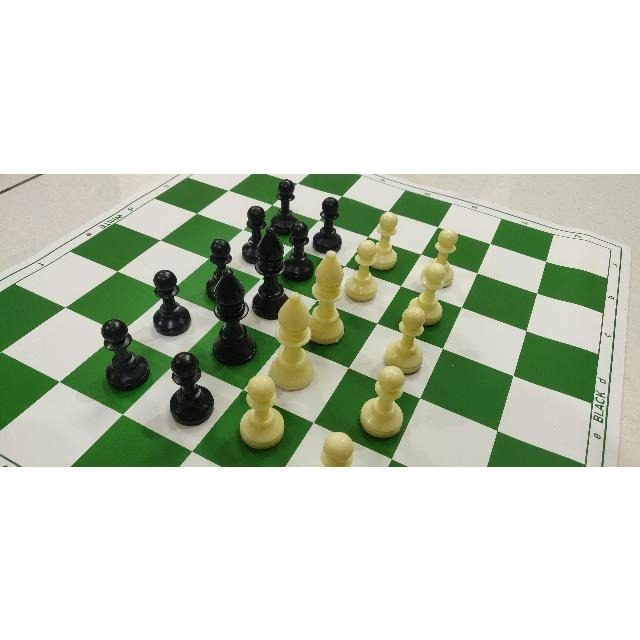black-bishop: (212, 268, 258, 366), (253, 224, 289, 318)
black-pawn: (162, 353, 217, 423), (95, 318, 150, 385), (147, 269, 193, 335), (316, 194, 344, 248), (275, 173, 295, 219), (207, 235, 235, 266), (294, 217, 310, 269), (247, 205, 267, 229)
white-bishop: (269, 293, 312, 391), (309, 249, 345, 343)
white-pawn: (235, 373, 285, 450), (365, 366, 407, 438), (390, 304, 424, 370), (347, 239, 377, 298), (421, 259, 446, 325), (312, 435, 358, 466), (378, 209, 398, 269), (435, 226, 460, 264)
